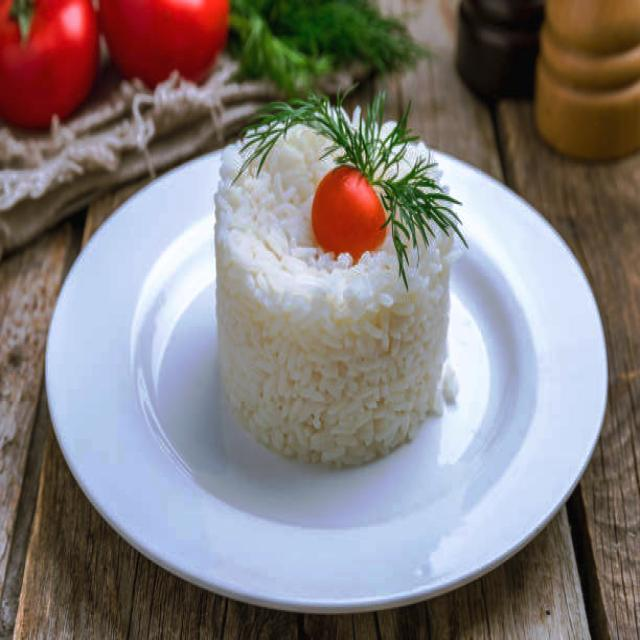rice: (214, 102, 459, 472)
